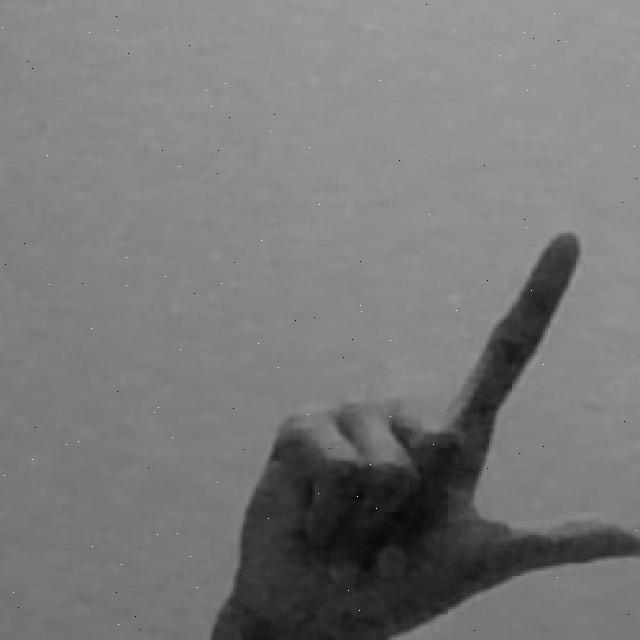L: (220, 225, 638, 640)
